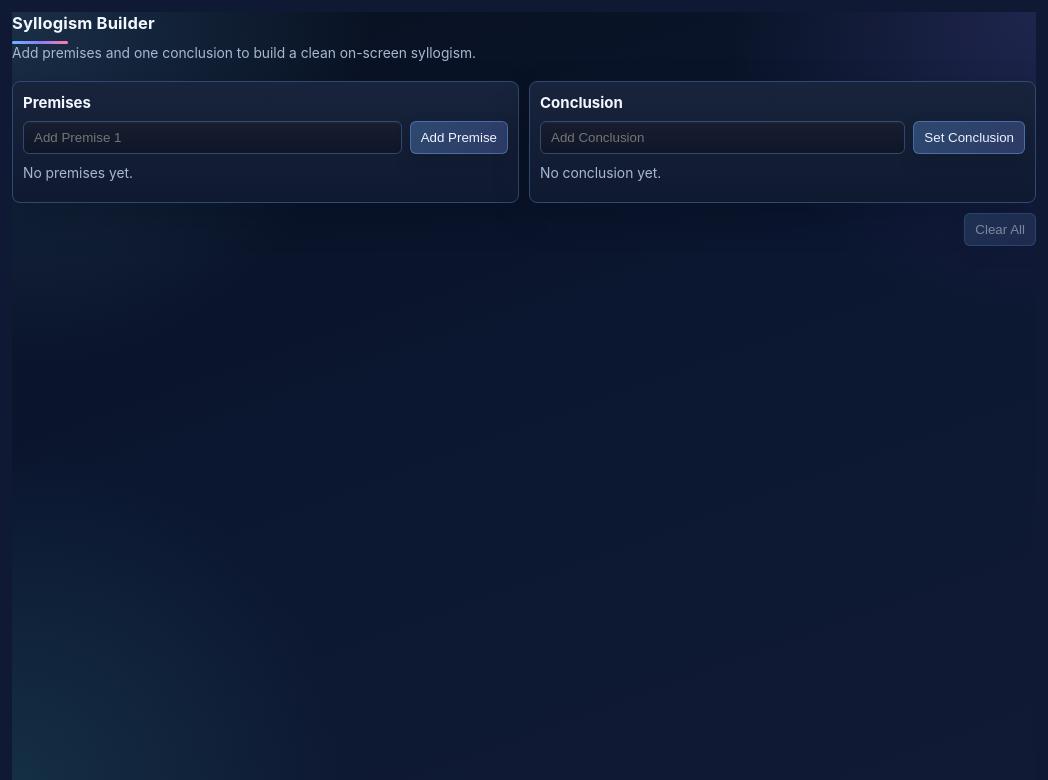
Scenario: SyllogismBuilderPage › allows only one conclusion at a time and clears all content
Type "Therefore, Socrates is mortal." into the field named "Set conclusion" at (723, 138), box 540,121 -> 905,154
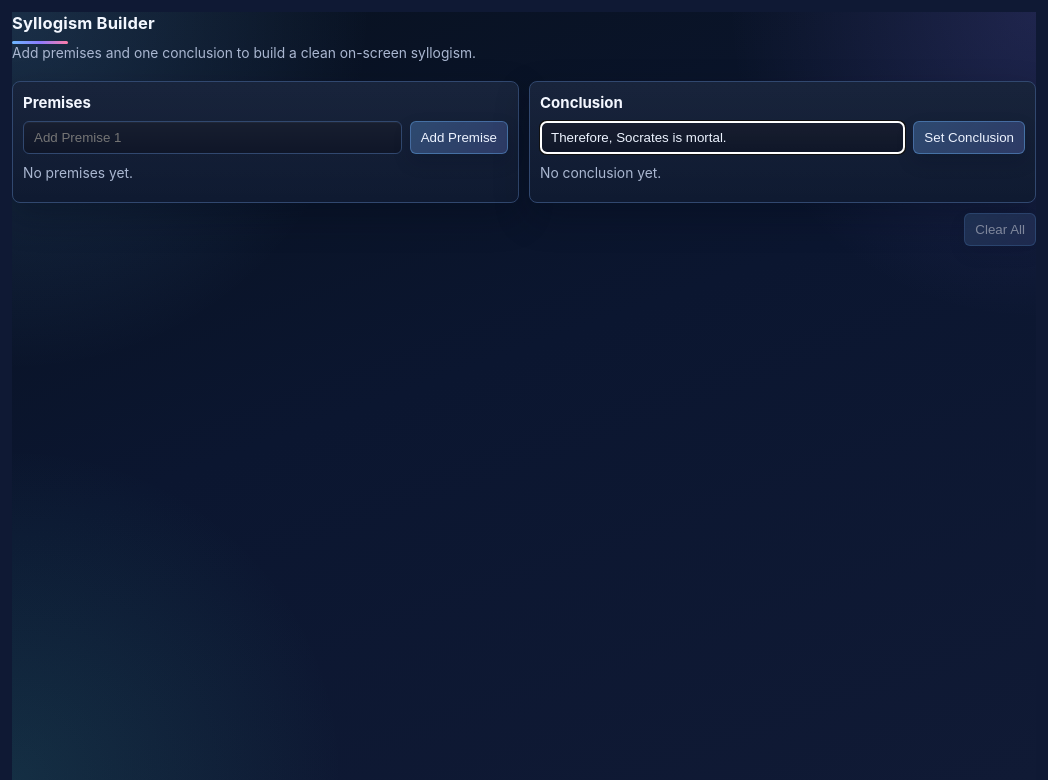
Click the button "Set Conclusion" at (969, 138), box 913,121 -> 1025,154
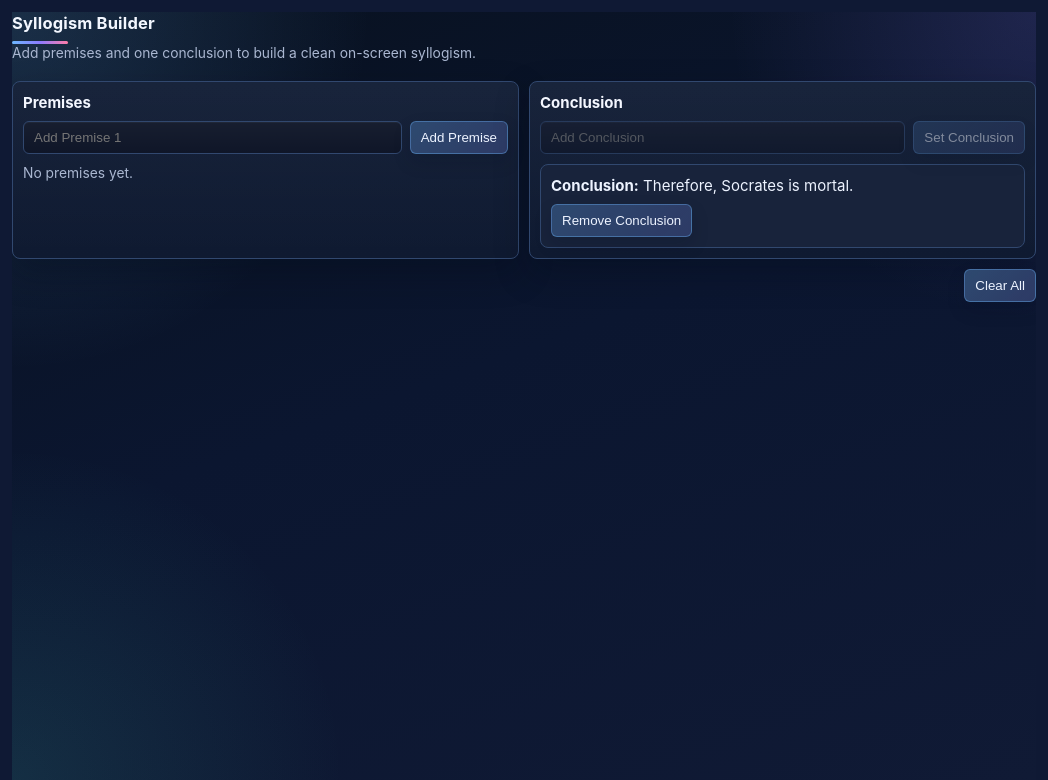
Check: the field named "Set conclusion" is disabled, box 540,121 -> 905,154
Check: the button "Remove Conclusion" is shown, box 551,204 -> 692,237
Type "A is B." into the field labelled "Add Premise" at (212, 138), box 23,121 -> 402,154
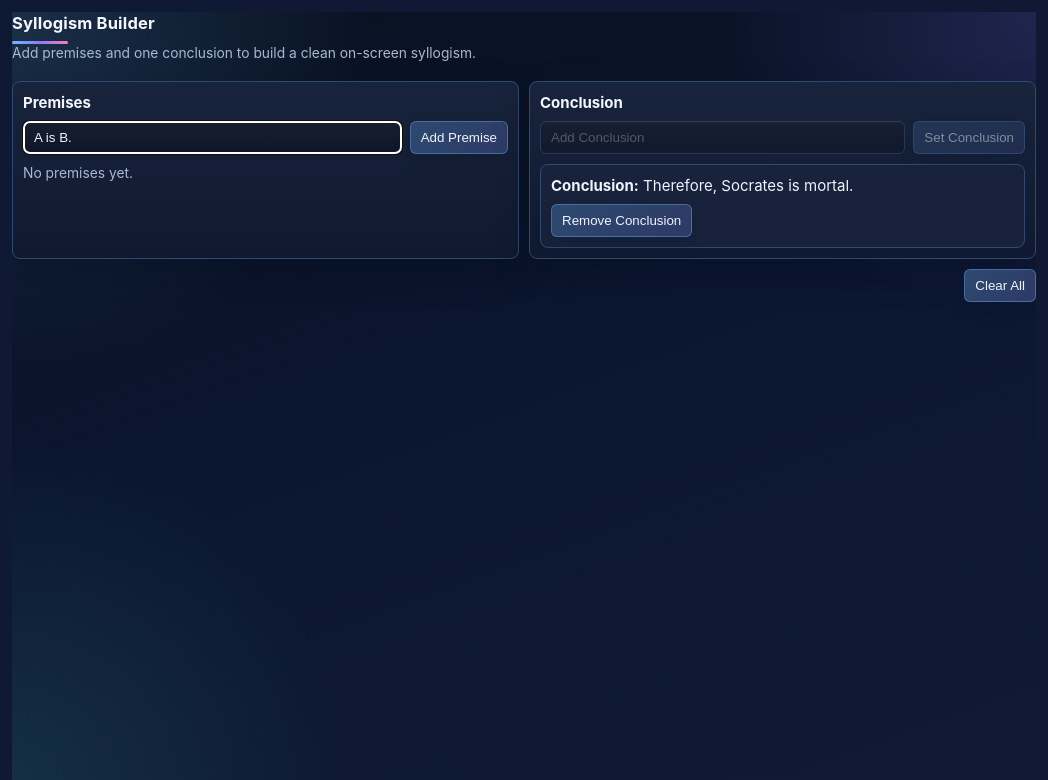
Click the button "Add Premise" at (459, 138), box 410,121 -> 508,154
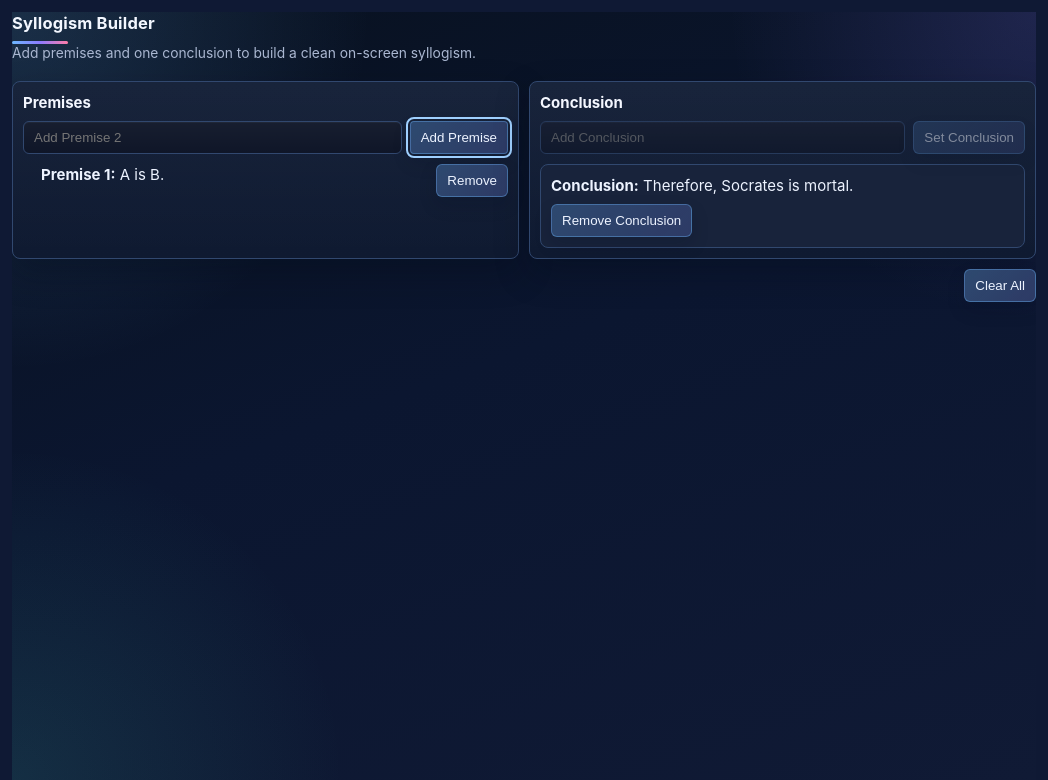
Click the button "Clear All" at (1000, 286), box 964,269 -> 1036,302
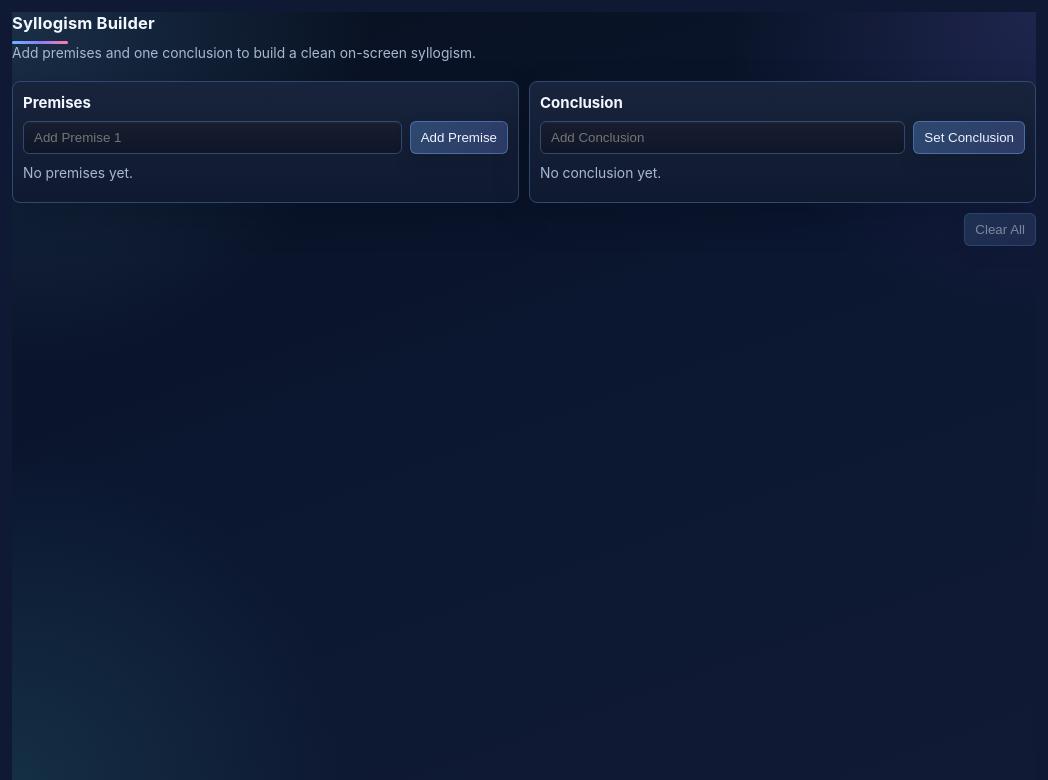
Check: the button "Remove Conclusion" is gone
Check: the text "Premise 1:" is gone
Check: the field named "Set conclusion" is enabled, box 540,121 -> 905,154
